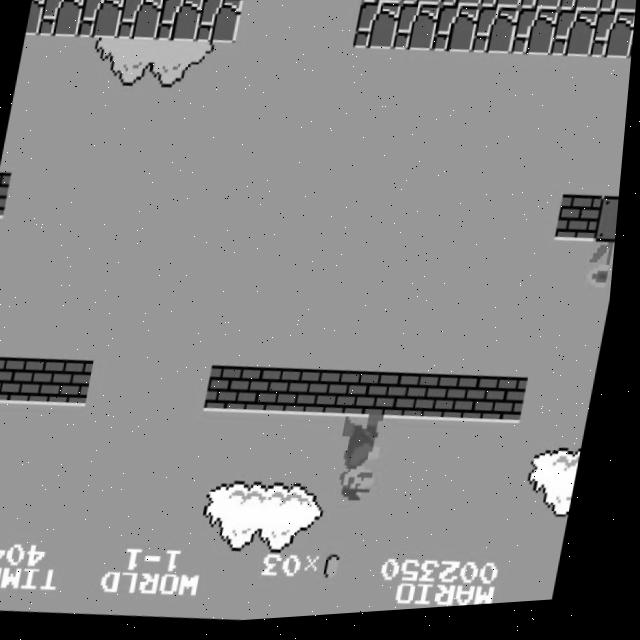0- big_mario: (338, 417, 398, 517)
1- brick_block: (558, 200, 607, 252), (250, 368, 299, 420), (210, 367, 259, 418), (13, 356, 62, 407), (487, 381, 535, 433), (369, 375, 417, 427), (53, 358, 101, 410), (448, 379, 496, 430), (408, 377, 456, 428), (329, 373, 377, 424), (290, 371, 338, 422), (0, 354, 22, 405), (0, 171, 15, 219)
17- undestructible_block: (392, 6, 442, 59), (550, 15, 600, 67), (471, 11, 521, 63), (511, 12, 560, 65), (353, 4, 402, 57), (432, 9, 481, 61), (589, 16, 637, 69), (195, 0, 244, 48), (155, 0, 205, 46), (116, 0, 165, 44), (76, 0, 125, 42), (37, 0, 86, 40), (558, 0, 603, 22), (598, 0, 638, 23), (519, 0, 564, 20), (25, 0, 46, 36), (480, 0, 524, 17), (440, 0, 485, 15), (401, 0, 445, 13), (361, 0, 406, 11), (203, 0, 247, 2), (163, 0, 207, 0)
3- empty_block: (597, 202, 623, 253)
6- flower: (589, 248, 620, 301)
